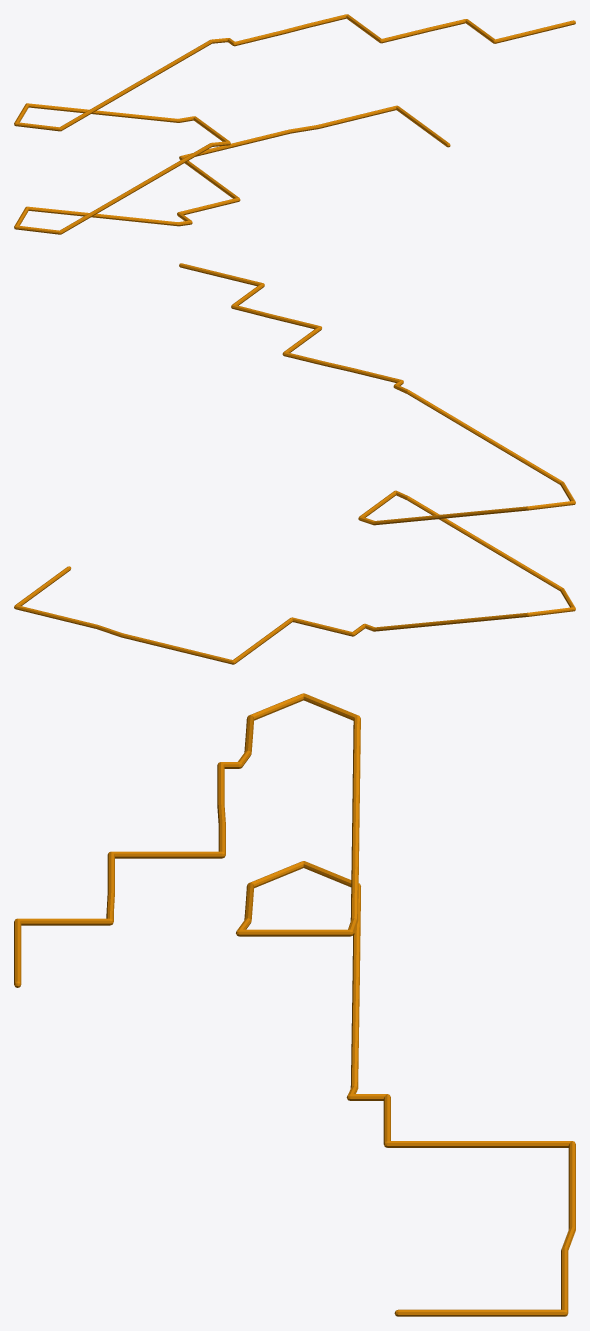
The picture shows the model from 3 angles, top to bottom: view 1: azimuth 30°, elevation 25°; view 2: azimuth 150°, elevation 25°; view 3: azimuth 270°, elevation 25°; orthographic projection. The views are drawn at different scales.
Size of the model in its own units: 2398 by 1020 by 1519.
